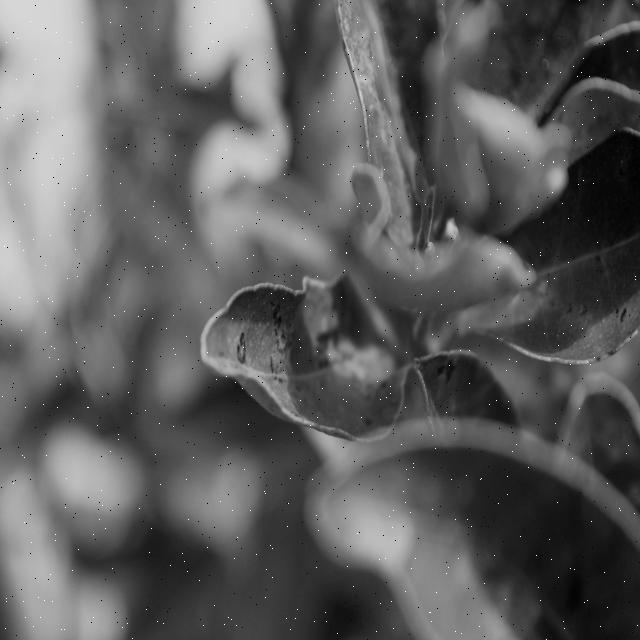canker: (218, 278, 394, 432), (346, 15, 416, 202), (490, 250, 640, 336), (427, 353, 472, 411)
